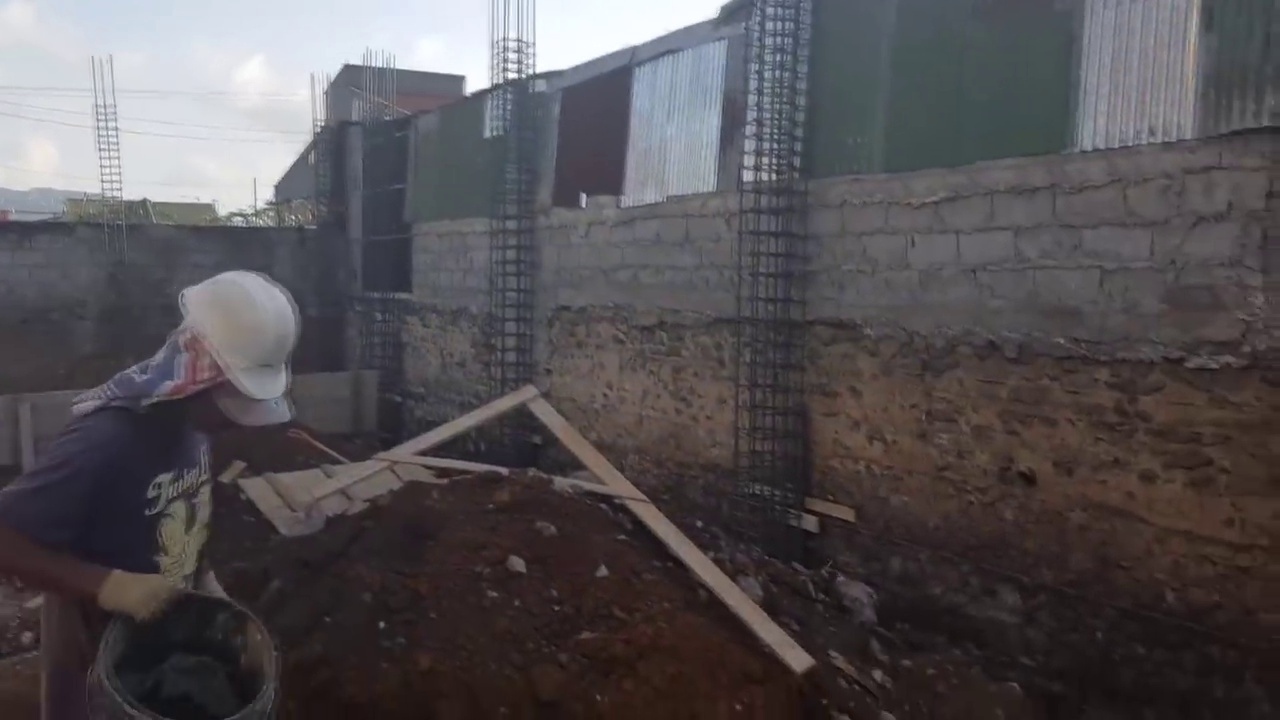helmet: (173, 270, 295, 398)
helmet-on: (141, 263, 298, 436)
person: (14, 245, 304, 700)
